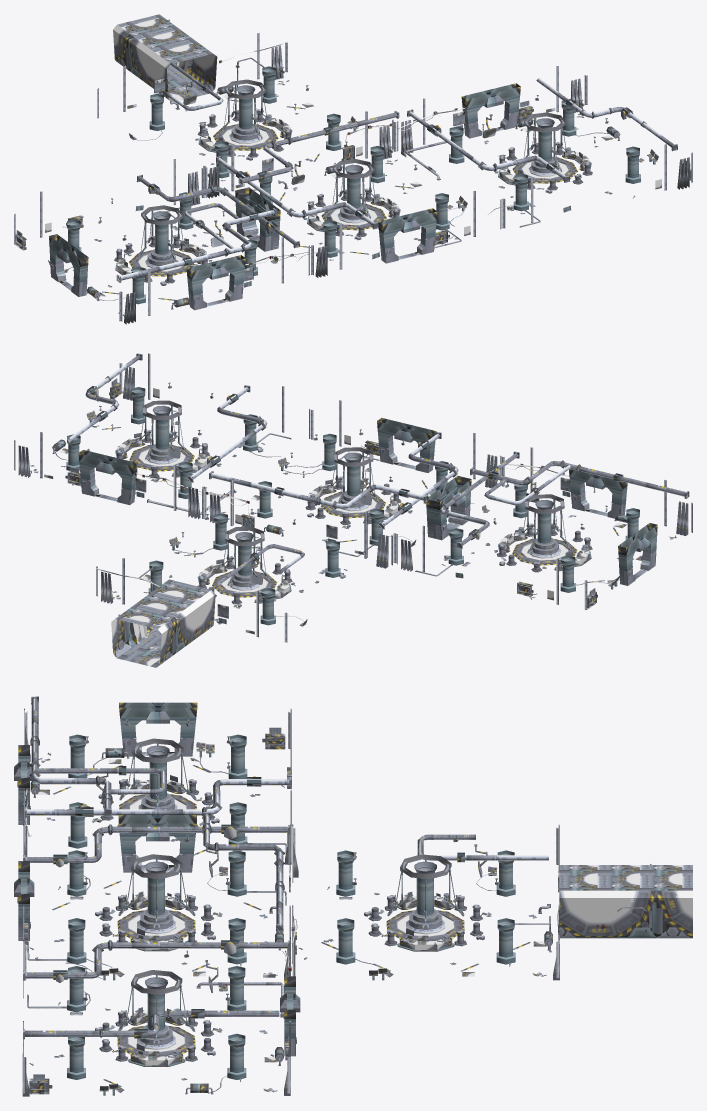
The model's file is Combined_Mesh_root_scene__10_7ad9d44b__ZombiesII_laboratory_07_d_a6872bb1_c1f257_part001.obj.
3 renders of one model, top to bottom at view 1: azimuth 30°, elevation 25°; view 2: azimuth 150°, elevation 25°; view 3: azimuth 270°, elevation 25°, orthographic. The views are drawn at different scales.
Bounding box in the file's own units: 124 × 10.34 × 102.
Materials: 541 (541 with a texture image).
